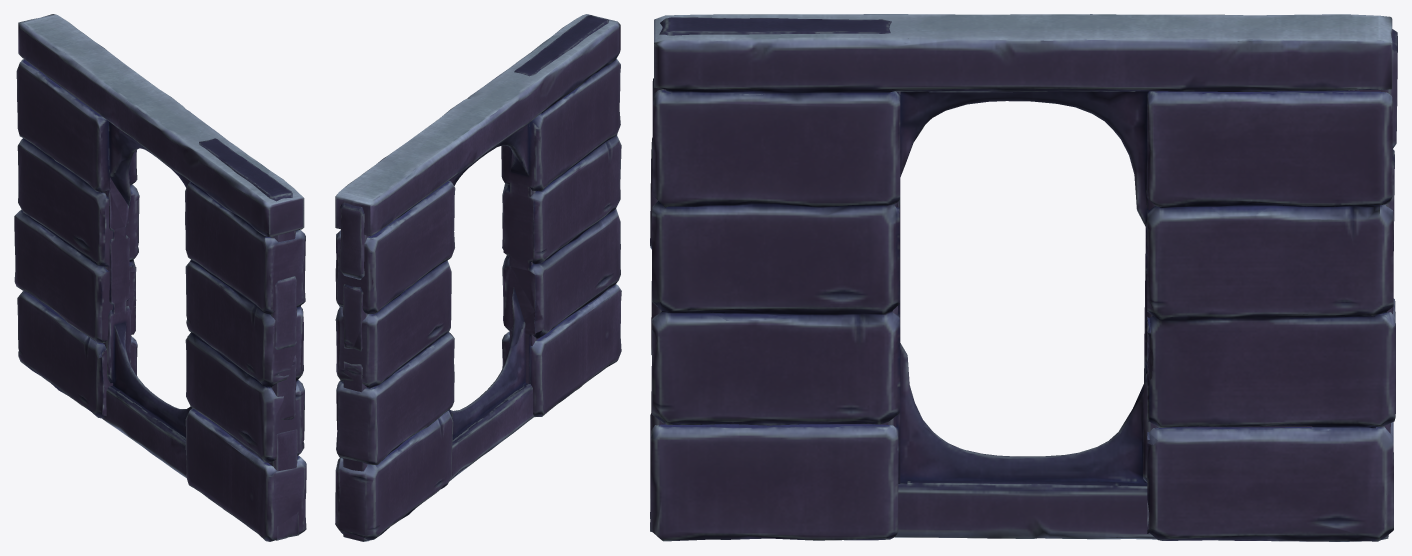
The model's file is windowWay.glb.
3 views of the same model, side by side, from view 1: azimuth 30°, elevation 25°; view 2: azimuth 150°, elevation 25°; view 3: azimuth 270°, elevation 25° (orthographic). The views are drawn at different scales.
Parts seen in each view (by area): view 1: Wall4_01_lambert12_0.001; view 2: Wall4_01_lambert12_0.001; view 3: Wall4_01_lambert12_0.001.
Boxes of the visible parts, <box> form: Wall4_01_lambert12_0.001: <box>14,14,306,541</box>; Wall4_01_lambert12_0.001: <box>335,14,621,541</box>; Wall4_01_lambert12_0.001: <box>650,14,1397,541</box>.
Bounding box in the file's own units: 0.0881 × 0.6479 × 0.8613.
Materials: 2 (2 with a texture image).
